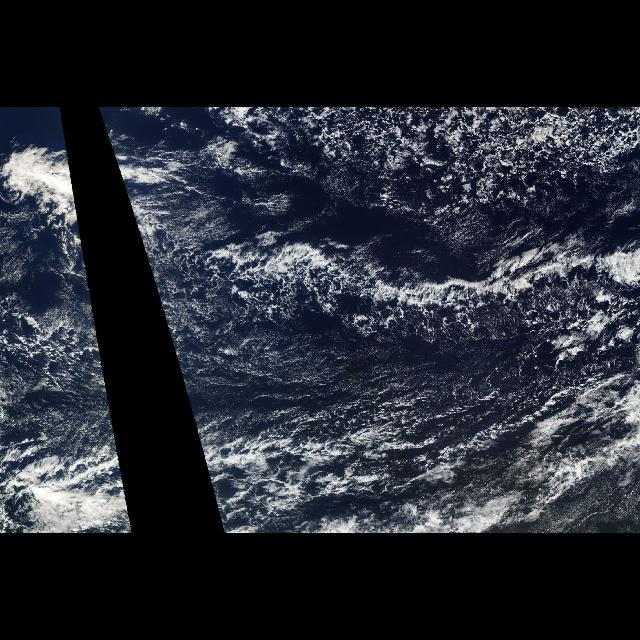Fish: (202, 216, 640, 342), (4, 139, 90, 277), (192, 416, 324, 502), (107, 139, 177, 277), (9, 446, 130, 510)
Gravel: (180, 107, 640, 240), (284, 381, 640, 533), (184, 255, 348, 319)
Sugar: (153, 280, 572, 438), (0, 280, 120, 454), (403, 186, 639, 244), (484, 459, 638, 533), (182, 184, 354, 238)
